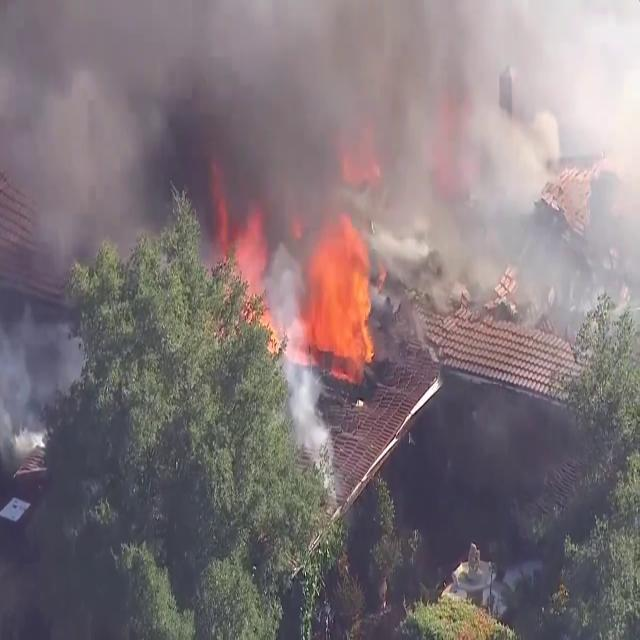Fire: (307, 207, 383, 369)
Smoke: (5, 1, 617, 322)
